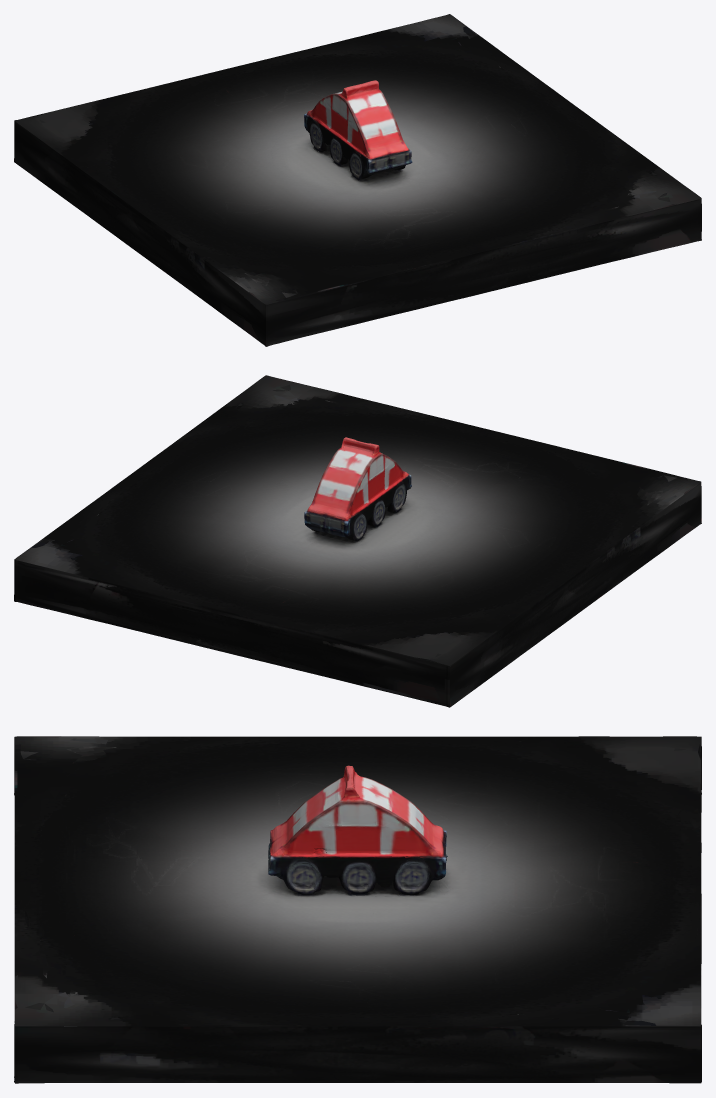
File: trellis_restaurant_interior_gen1.glb
3 views of the same model, one above another, from view 1: azimuth 30°, elevation 25°; view 2: azimuth 150°, elevation 25°; view 3: azimuth 270°, elevation 25° (orthographic). The views are drawn at different scales.
Parts seen in each view (by area): view 1: world; view 2: world; view 3: world.
Part boxes in pixels (box(x1,y1,x2,y2)): world: box(14, 14, 701, 346); world: box(14, 375, 701, 707); world: box(14, 736, 701, 1083).
Bounding box in the file's own units: 1 × 0.2613 × 1.
1 material, 1 textured.
